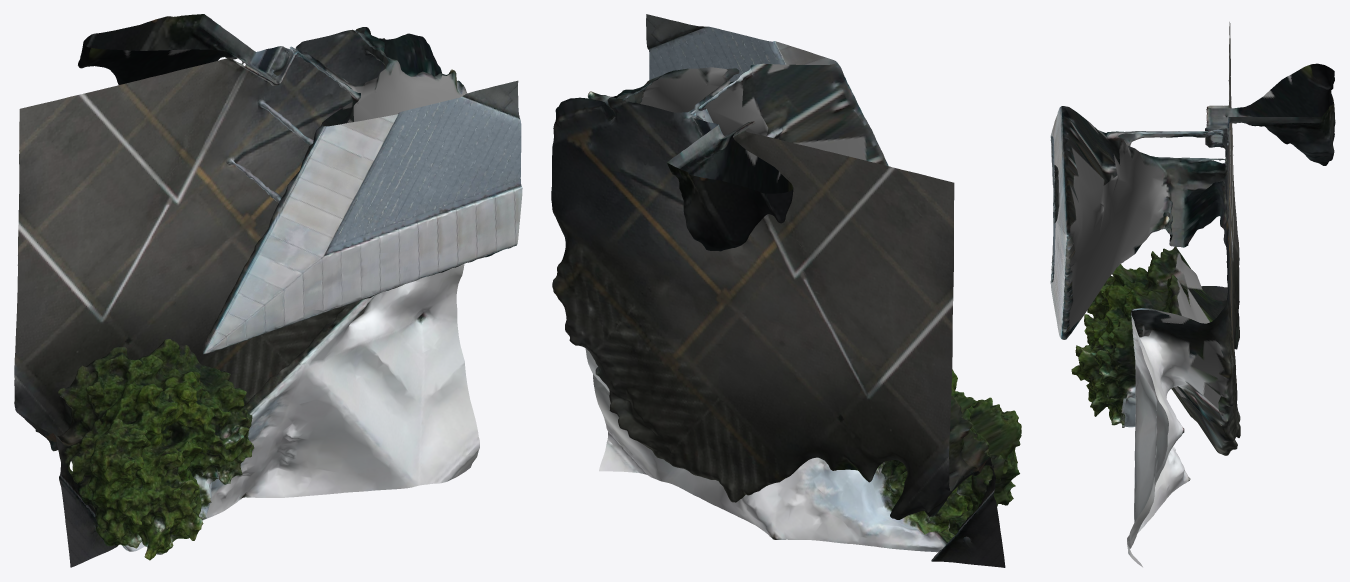
File: Tile_+013_+013.fbx
3 renders of one model, left to right at view 1: azimuth 30°, elevation 25°; view 2: azimuth 150°, elevation 25°; view 3: azimuth 270°, elevation 25°, orthographic. The views are drawn at different scales.
Parts seen in each view (by area): view 1: DefaultName; view 2: DefaultName; view 3: DefaultName.
Boxes of the visible parts, x1,y1,x2,y2 form: DefaultName: (14, 14, 522, 567); DefaultName: (551, 14, 1021, 567); DefaultName: (1050, 22, 1335, 567).
Size of the model in its own units: 22.54 by 22.54 by 15.41.
